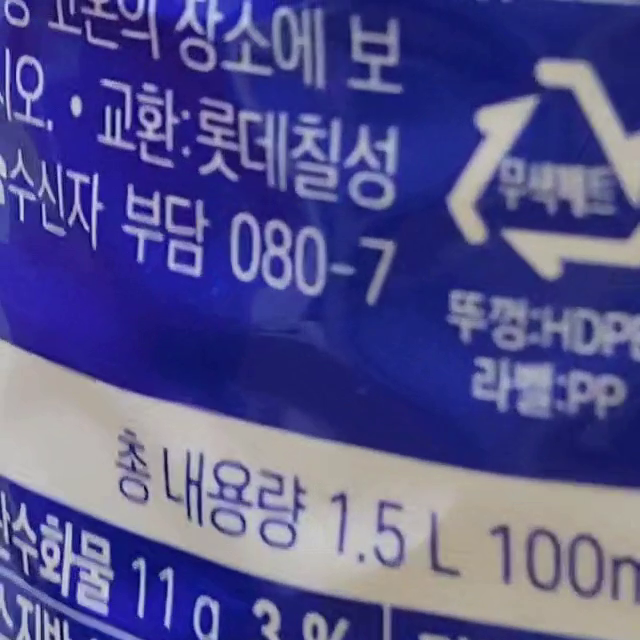ColorlessPet: (446, 57, 640, 277)
